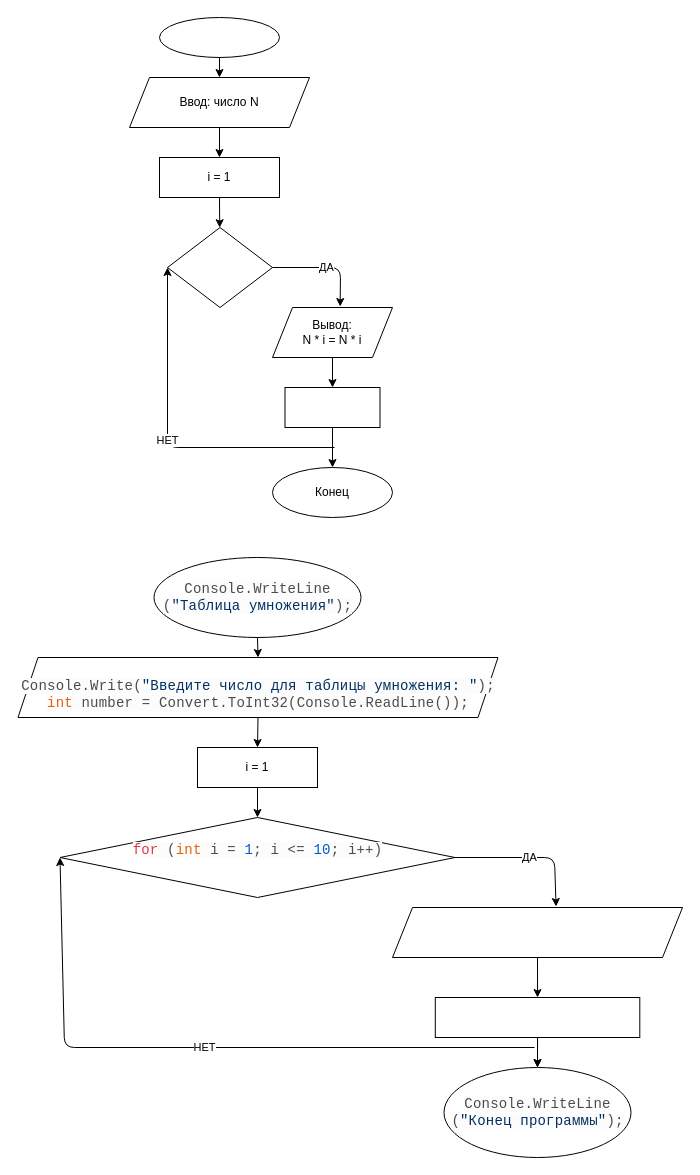
Image size: 700x1175. Some labels were removed from this diagram. Each missing label, with the centre of its shape:
Console.WriteLine ( $" {number} x {i} = {result} " );: the point at 537,932
i <= 10?: the point at 219,267
i = i + 1: the point at 332,407
int result = number * i;: the point at 537,1017
Начало: the point at 219,37
